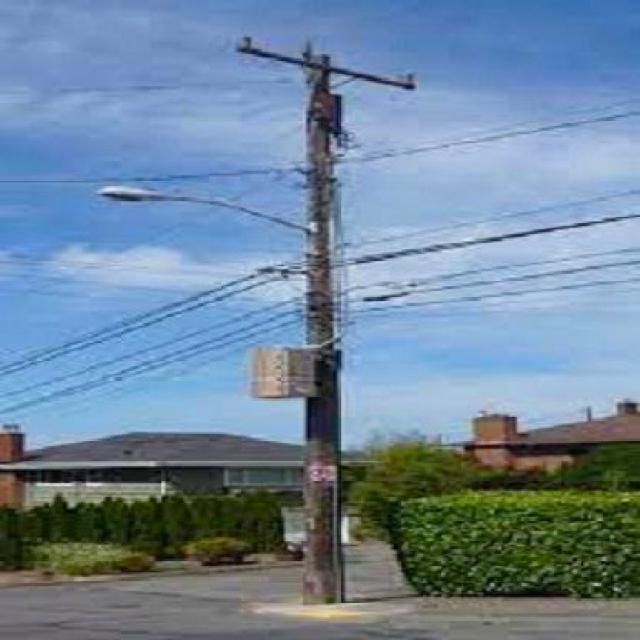crossarm: (235, 38, 420, 94)
pole: (298, 55, 343, 612)
transformer: (245, 345, 320, 400)
wire: (0, 261, 307, 373), (0, 305, 304, 415), (0, 271, 304, 378), (0, 296, 306, 402), (43, 315, 307, 403), (325, 190, 639, 250), (328, 211, 640, 270), (331, 110, 639, 168), (328, 259, 640, 308), (329, 248, 640, 295), (331, 274, 640, 315), (0, 166, 309, 183)
